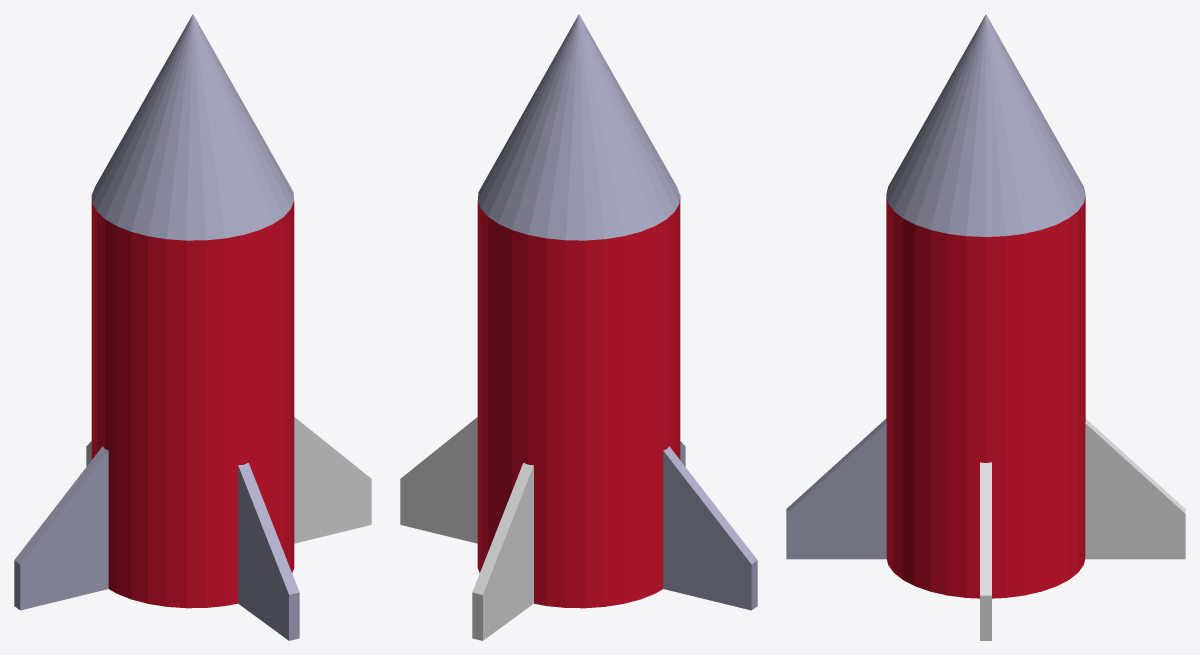
File: rocket.glb
3 views of the same model, side by side, from view 1: azimuth 30°, elevation 25°; view 2: azimuth 150°, elevation 25°; view 3: azimuth 270°, elevation 25° (orthographic).
Visible parts, largest first — view 1: Cylinder, Cone, Cube, Cube.002, Cube.001; view 2: Cylinder, Cone, Cube, Cube.002, Cube.003; view 3: Cylinder, Cone, Cube.001, Cube.003, Cube.002.
Part boxes in pixels (x1,y1,x2,y2): Cylinder: [91, 195, 294, 608]; Cone: [92, 14, 293, 240]; Cube: [14, 446, 108, 610]; Cube.002: [294, 417, 371, 543]; Cube.001: [238, 463, 299, 640]; Cylinder: [477, 195, 680, 608]; Cone: [478, 14, 679, 240]; Cube: [663, 446, 757, 610]; Cube.002: [400, 417, 477, 543]; Cube.003: [472, 463, 533, 640]; Cylinder: [886, 196, 1085, 598]; Cone: [886, 14, 1085, 236]; Cube.001: [786, 418, 886, 559]; Cube.003: [1085, 418, 1185, 559]; Cube.002: [980, 462, 991, 640].
Size of the model in its own units: 4 by 6 by 4.
